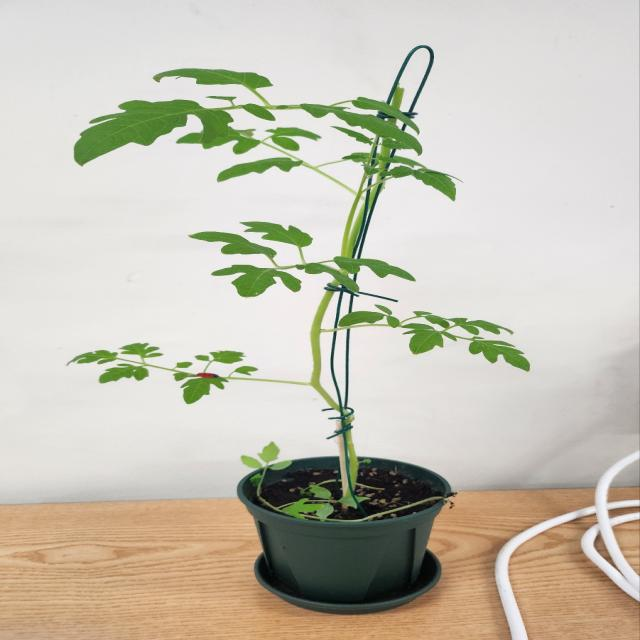bug: (185, 365, 232, 383)
